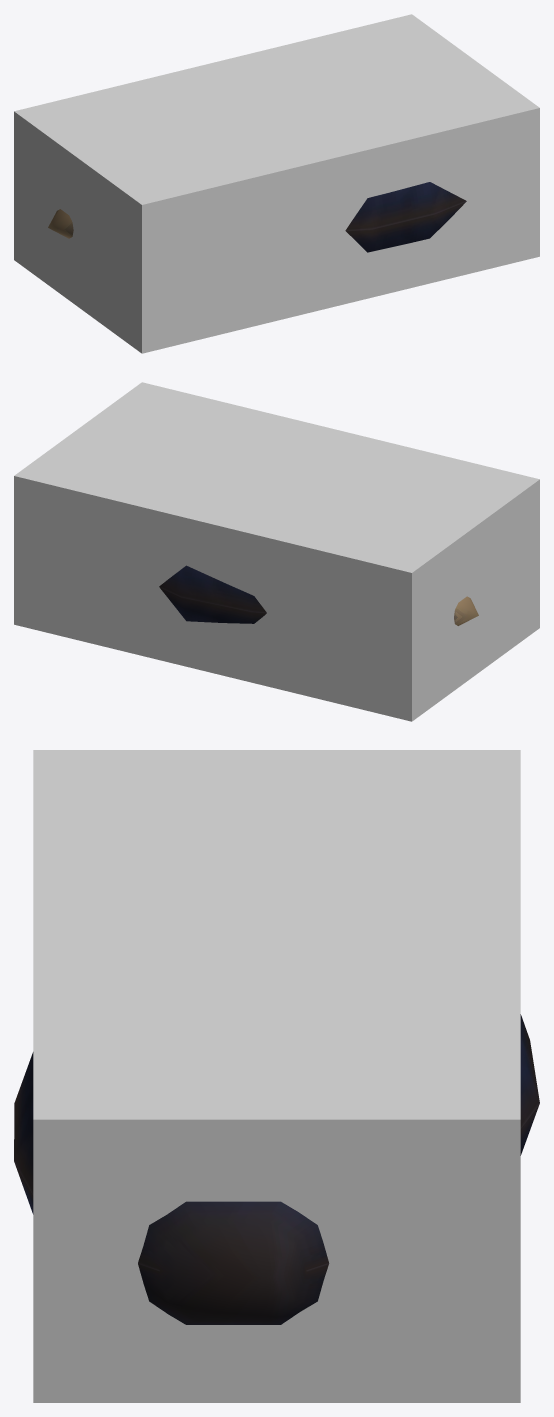
The model's file is IO_Shellfish_A_Single.glb.
3 renders of one model, top to bottom at view 1: azimuth 30°, elevation 25°; view 2: azimuth 150°, elevation 25°; view 3: azimuth 270°, elevation 25°, orthographic. The views are drawn at different scales.
Parts seen in each view (by area): view 1: IO_Shellfish_A_Single_COL, IO_Shellfish_A_Single_LOD0; view 2: IO_Shellfish_A_Single_COL, IO_Shellfish_A_Single_LOD0; view 3: IO_Shellfish_A_Single_COL, IO_Shellfish_A_Single_LOD0.
Part boxes in pixels (x1=…): IO_Shellfish_A_Single_COL: x1=14, y1=14, x2=539, y2=353; IO_Shellfish_A_Single_LOD0: x1=48, y1=182, x2=466, y2=252; IO_Shellfish_A_Single_COL: x1=14, y1=382, x2=539, y2=721; IO_Shellfish_A_Single_LOD0: x1=159, y1=565, x2=478, y2=625; IO_Shellfish_A_Single_COL: x1=33, y1=750, x2=520, y2=1402; IO_Shellfish_A_Single_LOD0: x1=14, y1=1014, x2=539, y2=1324.
Size of what is drawn, in the model's own units: 0.0698 by 0.023 by 0.0387.
1 material, 1 textured.
